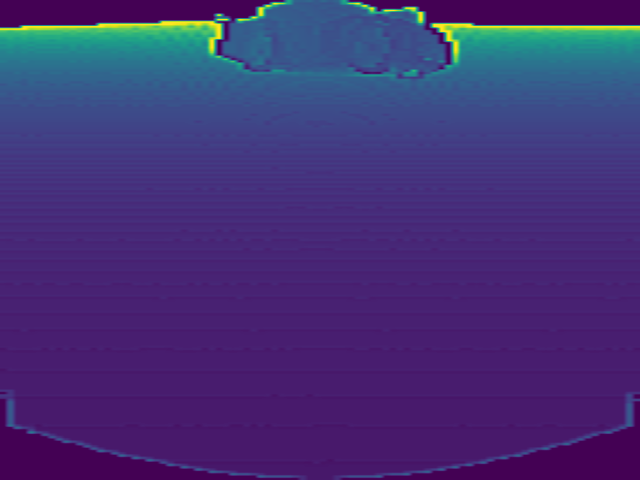car_0027: (215, 1, 459, 77)
